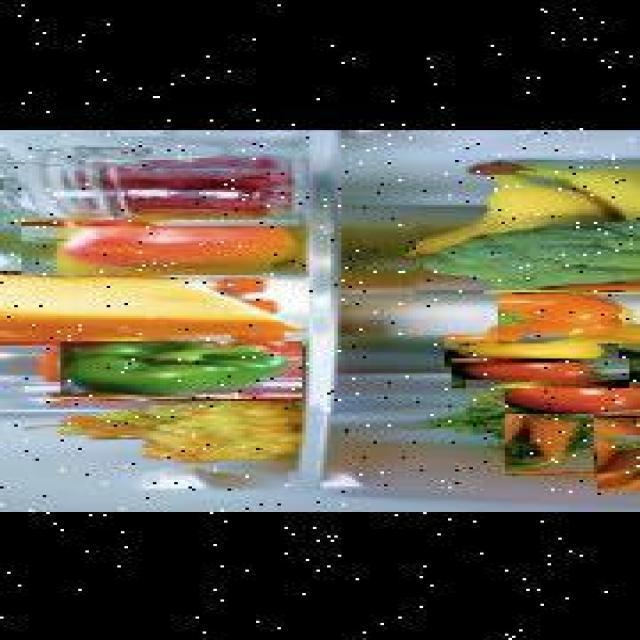apple: (23, 221, 301, 276)
bell_pepper: (60, 341, 302, 399), (498, 284, 640, 344)
broccoli: (416, 215, 640, 292)
carrot: (505, 414, 594, 474), (597, 436, 640, 490)
cheese: (0, 268, 309, 343)
lemon: (444, 333, 618, 365)
tomato: (453, 360, 631, 390), (505, 382, 640, 418)
